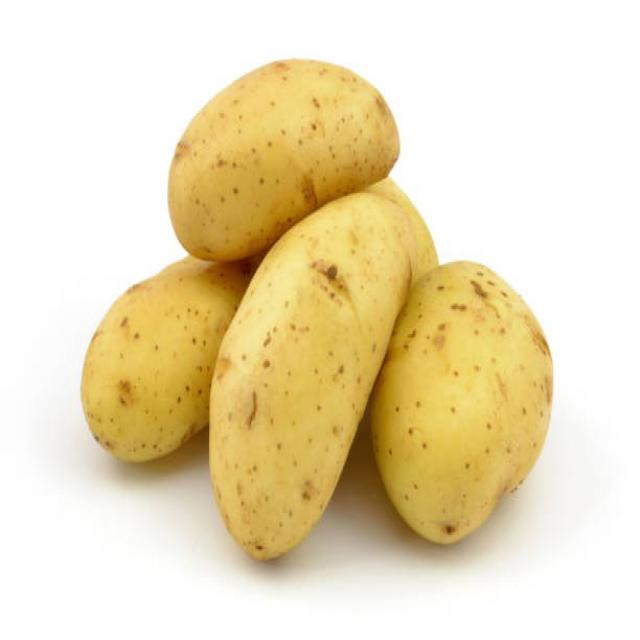Potato: (209, 216, 376, 564), (394, 251, 557, 551), (168, 49, 403, 221), (82, 256, 206, 457)
